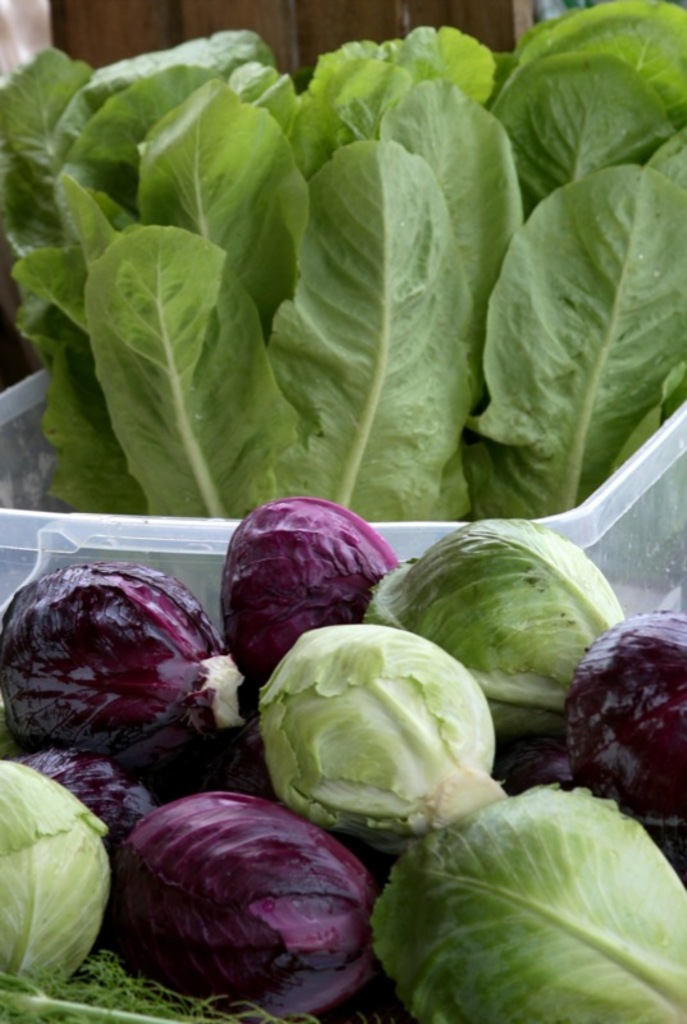Cabbage: (0, 497, 685, 1024)
